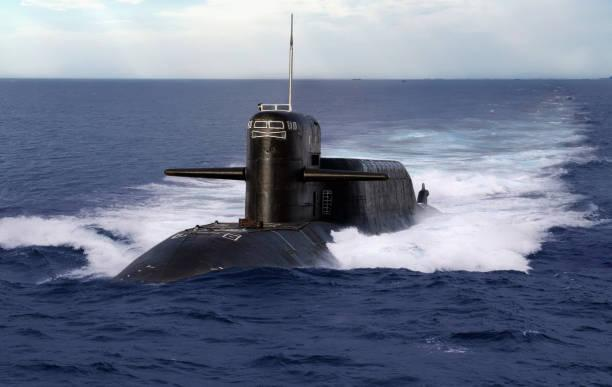Submarine: (66, 0, 534, 319)
